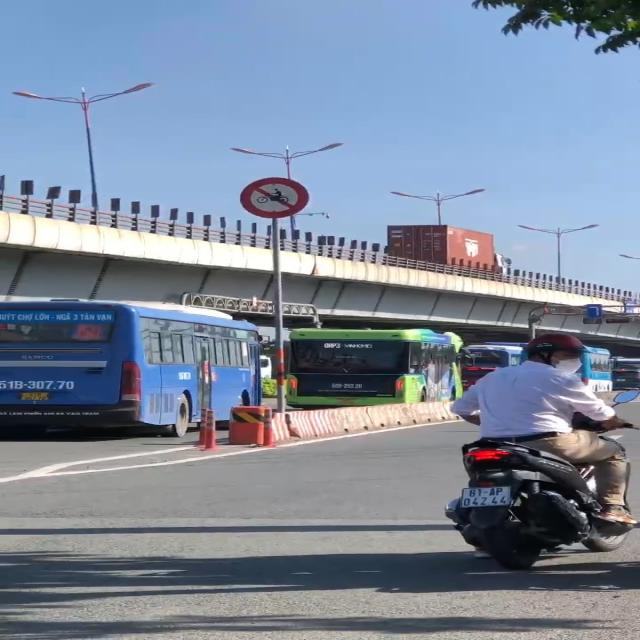Bien bao cam xe may: (232, 174, 320, 222)
